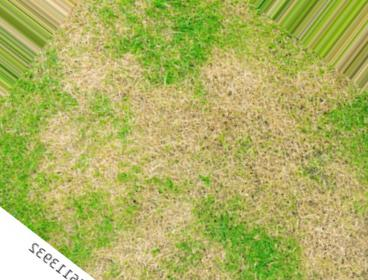patch: (141, 98, 242, 161), (323, 213, 362, 271), (257, 94, 298, 144), (78, 59, 112, 86), (225, 66, 260, 88), (53, 128, 80, 154), (193, 166, 224, 186), (127, 234, 152, 256), (130, 260, 148, 280), (300, 209, 312, 237), (62, 177, 83, 191), (329, 192, 344, 206)
